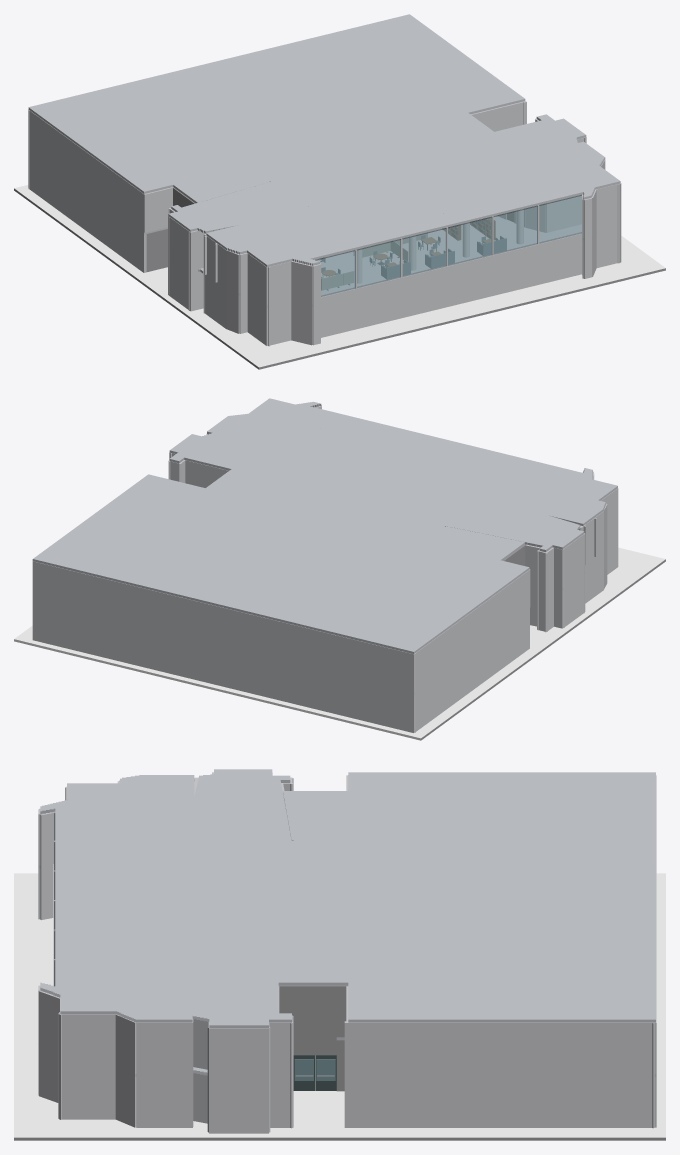
File: marx-library-e65fedd1e9.glb
The picture shows the model from 3 angles, top to bottom: view 1: azimuth 30°, elevation 25°; view 2: azimuth 150°, elevation 25°; view 3: azimuth 270°, elevation 25°; orthographic projection. The views are drawn at different scales.
Visible parts, largest first — view 1: Library_7, Library_1, Library_42, Library_66, Library_0, Library_18, Library_15, Library_65; view 2: Library_7, Library_1, Library_42, Library_0; view 3: Library_7, Library_1, Library_42, Library_0, Library_5, Library_6.
Boxes of the visible parts, bbox=[...] form: Library_7: bbox=[28, 14, 620, 307]; Library_1: bbox=[28, 101, 621, 346]; Library_42: bbox=[14, 185, 665, 367]; Library_66: bbox=[315, 195, 581, 295]; Library_0: bbox=[14, 187, 665, 369]; Library_18: bbox=[321, 235, 506, 279]; Library_15: bbox=[321, 232, 427, 290]; Library_65: bbox=[315, 195, 581, 296]; Library_7: bbox=[32, 398, 617, 694]; Library_1: bbox=[32, 405, 618, 732]; Library_42: bbox=[14, 547, 665, 740]; Library_0: bbox=[421, 544, 665, 740]; Library_7: bbox=[38, 769, 656, 1076]; Library_1: bbox=[38, 772, 656, 1133]; Library_42: bbox=[14, 873, 665, 1137]; Library_0: bbox=[14, 985, 665, 1140]; Library_5: bbox=[294, 1059, 335, 1080]; Library_6: bbox=[294, 1055, 336, 1090].
Bounding box in the file's own units: 47.25 × 9.25 × 49.25.
